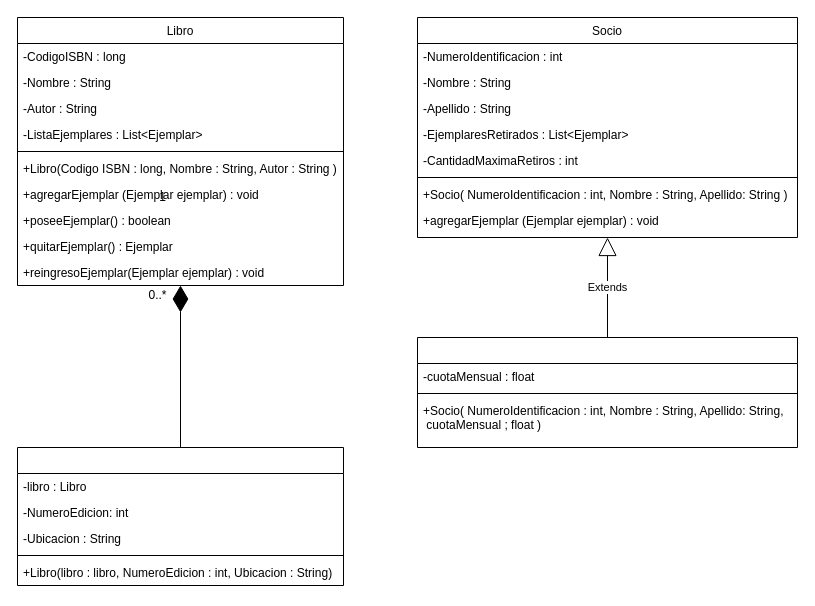
Image size: 815x606. Some labels were removed from this diagram. The shapes that lost their labels are listed below. From the top down, each one's box as (x1, y1, x2, y2) in pixels, then its label:
(416, 336, 798, 448): SocioVIP
(16, 446, 344, 586): Ejemplar
